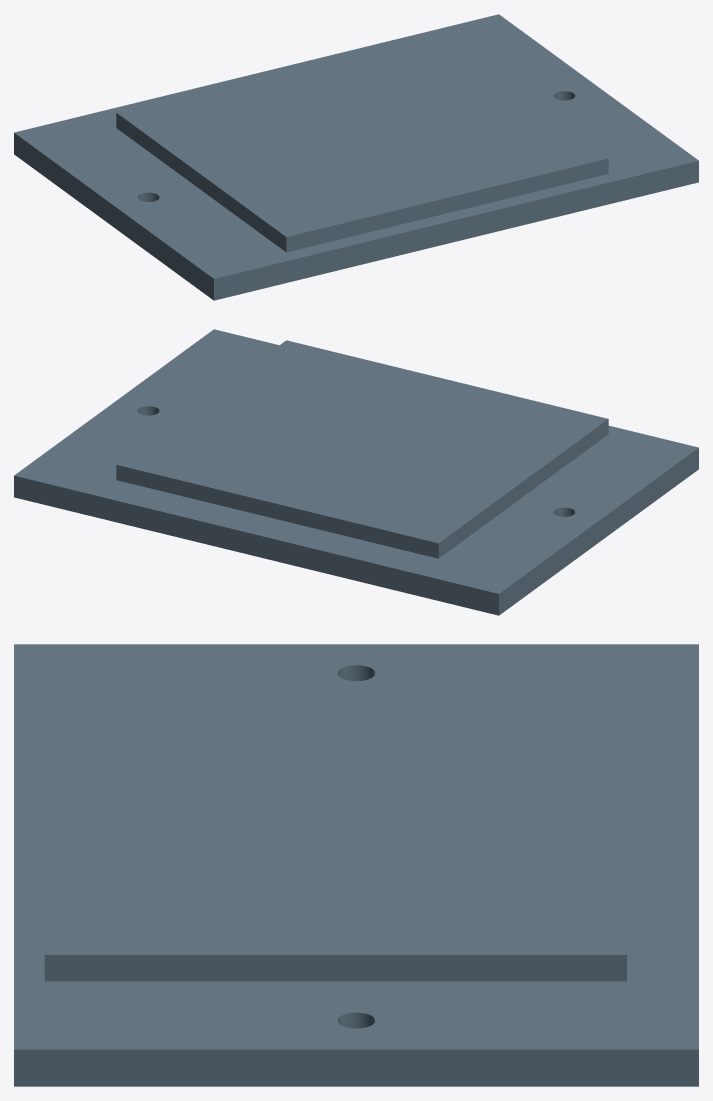
File: front_blank.glb
3 renders of one model, top to bottom at view 1: azimuth 30°, elevation 25°; view 2: azimuth 150°, elevation 25°; view 3: azimuth 270°, elevation 25°, orthographic. The views are drawn at different scales.
Visible parts, largest first — view 1: front_blank; view 2: front_blank; view 3: front_blank.
Part boxes in pixels (x1,y1,x2,y2): front_blank: [14, 14, 698, 300]; front_blank: [14, 329, 698, 615]; front_blank: [14, 644, 698, 1086].
Size of the model in its own units: 0.056 by 0.0041 by 0.04.
